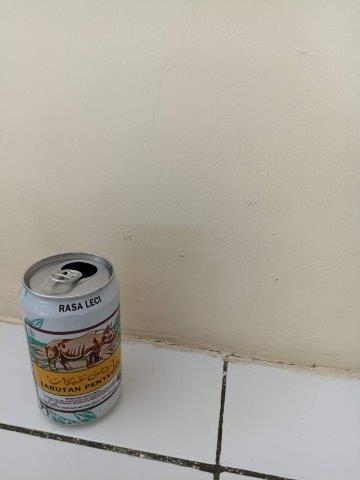kaleng: (21, 251, 124, 426)
